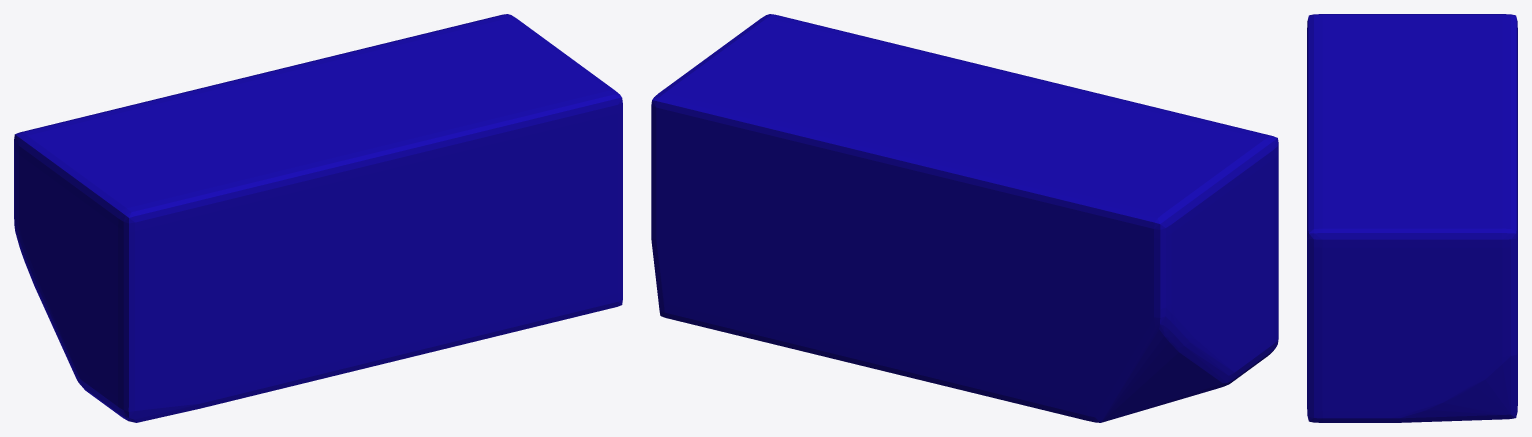
The model's file is left_shoulder_pitch_link_part_5.obj.
3 renders of one model, left to right at view 1: azimuth 30°, elevation 25°; view 2: azimuth 150°, elevation 25°; view 3: azimuth 270°, elevation 25°, orthographic. The views are drawn at different scales.
Bounding box in the file's own units: 0.0673 × 0.0274 × 0.0271.
